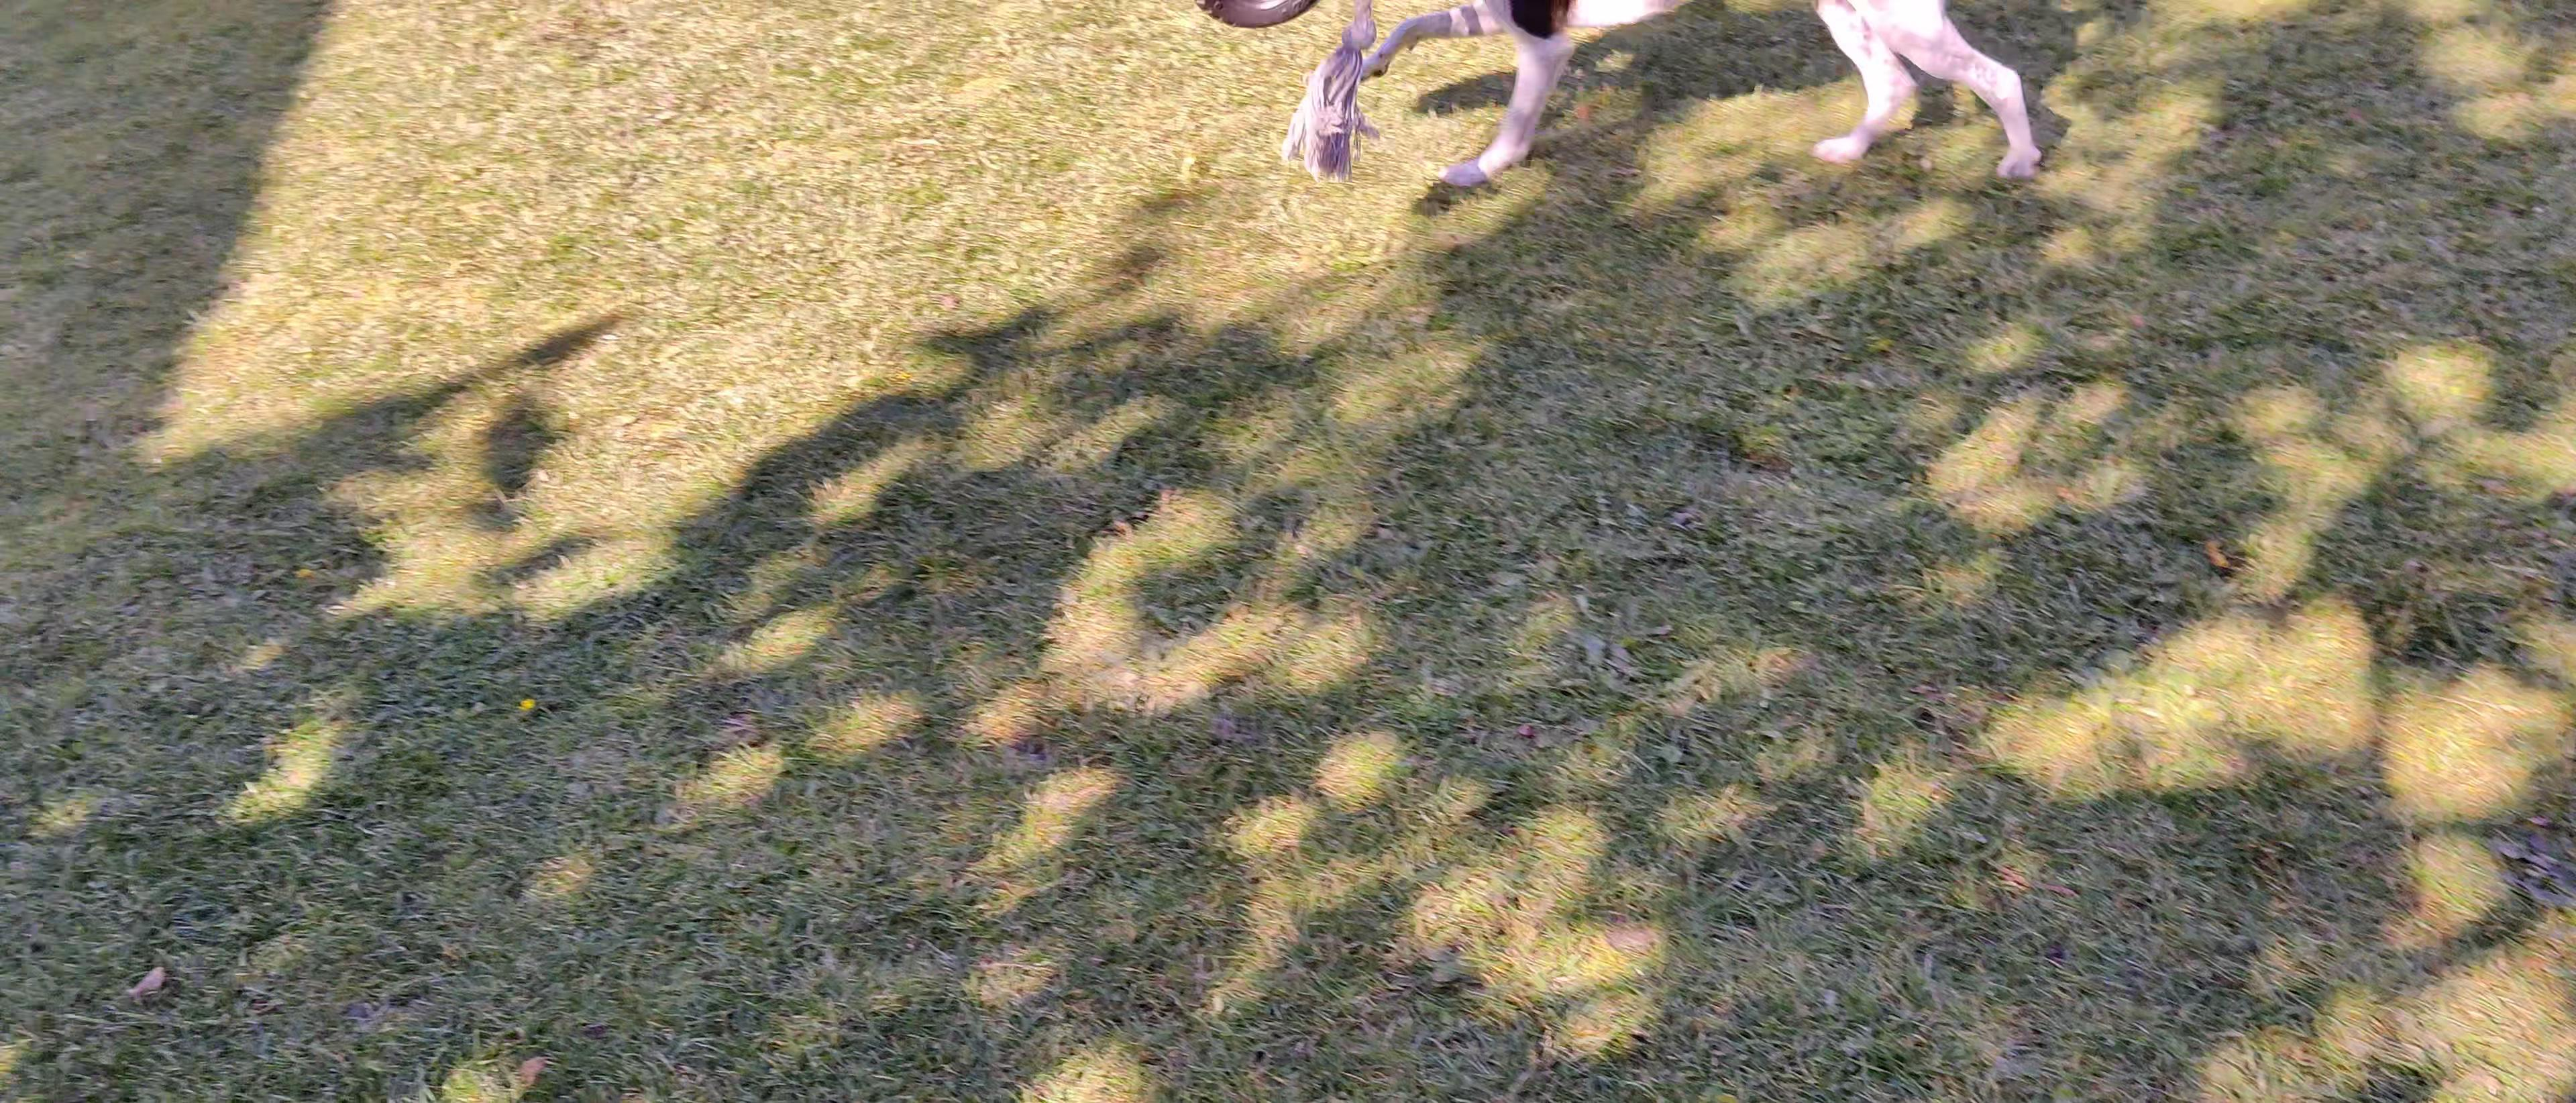Dog: (1349, 2, 2049, 201)
